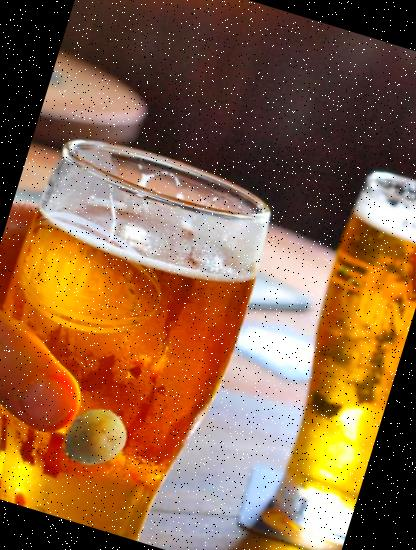Potato: (54, 396, 135, 477)
